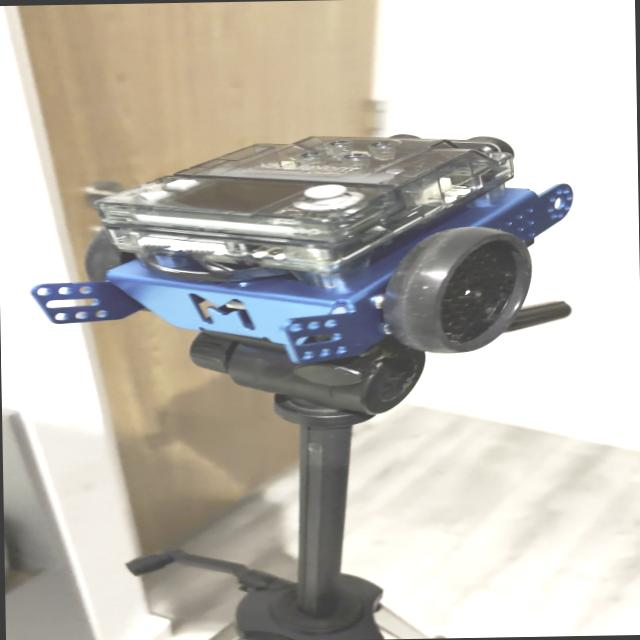mbot-detection: (18, 119, 586, 372)
